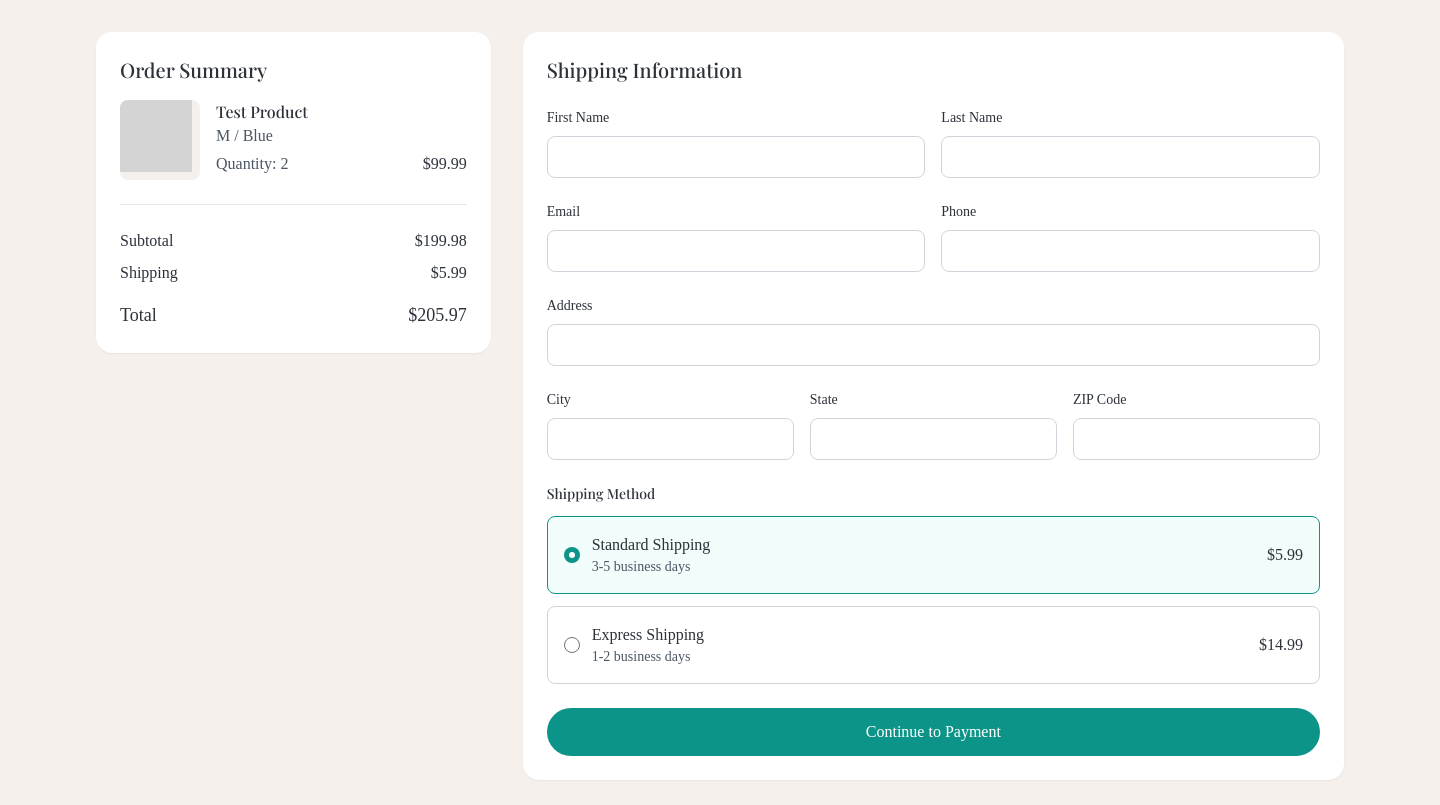
Test: CheckoutForm › validates shipping form fields
The image size is (1440, 805).
# Try to proceed without filling required fields
Click the button "Continue to Payment" at (933, 732), box [547,708,1320,756]
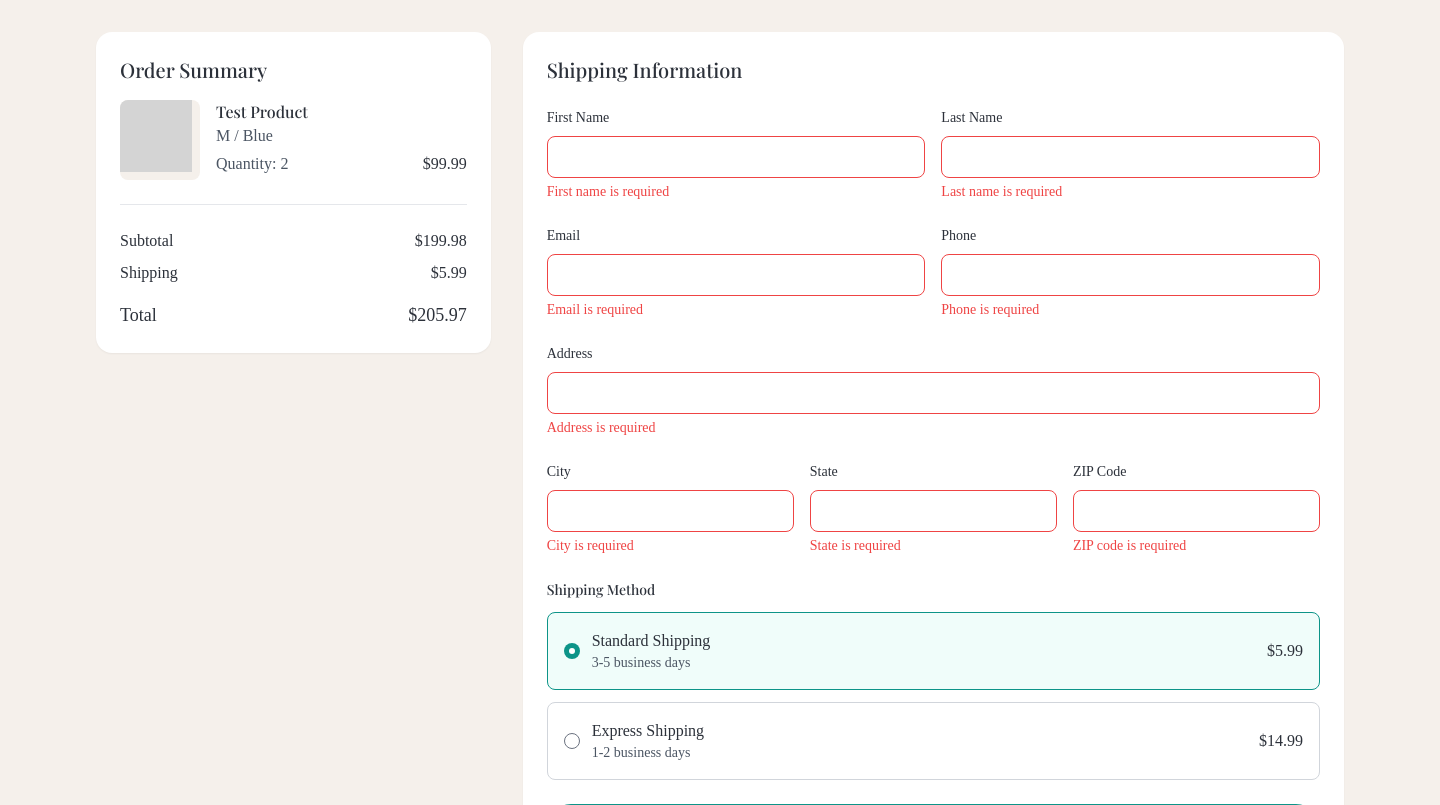
Check: the text "First name is required" is shown, box [547,184,669,199]
Check: the text "Last name is required" is shown, box [941,184,1062,199]
Check: the text "Email is required" is shown, box [547,302,643,317]
